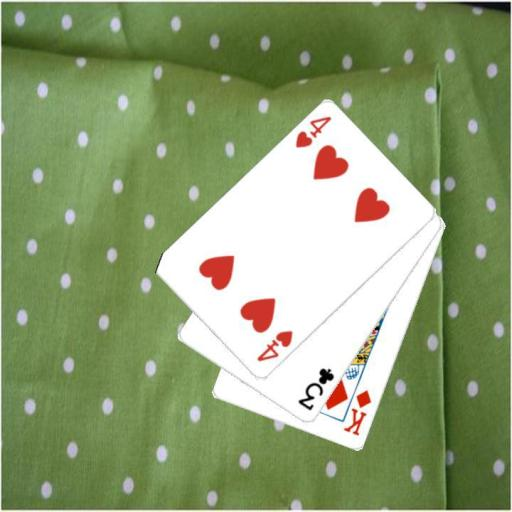3C: (295, 365, 337, 413)
4H: (254, 327, 295, 364), (292, 113, 333, 150)
KD: (341, 387, 373, 437)
